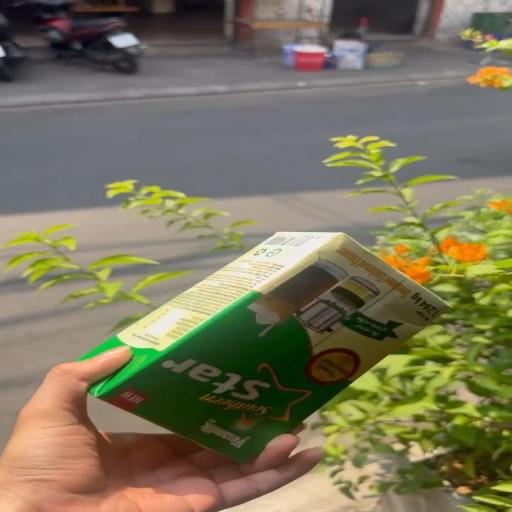ly_giay: (82, 232, 450, 463)
